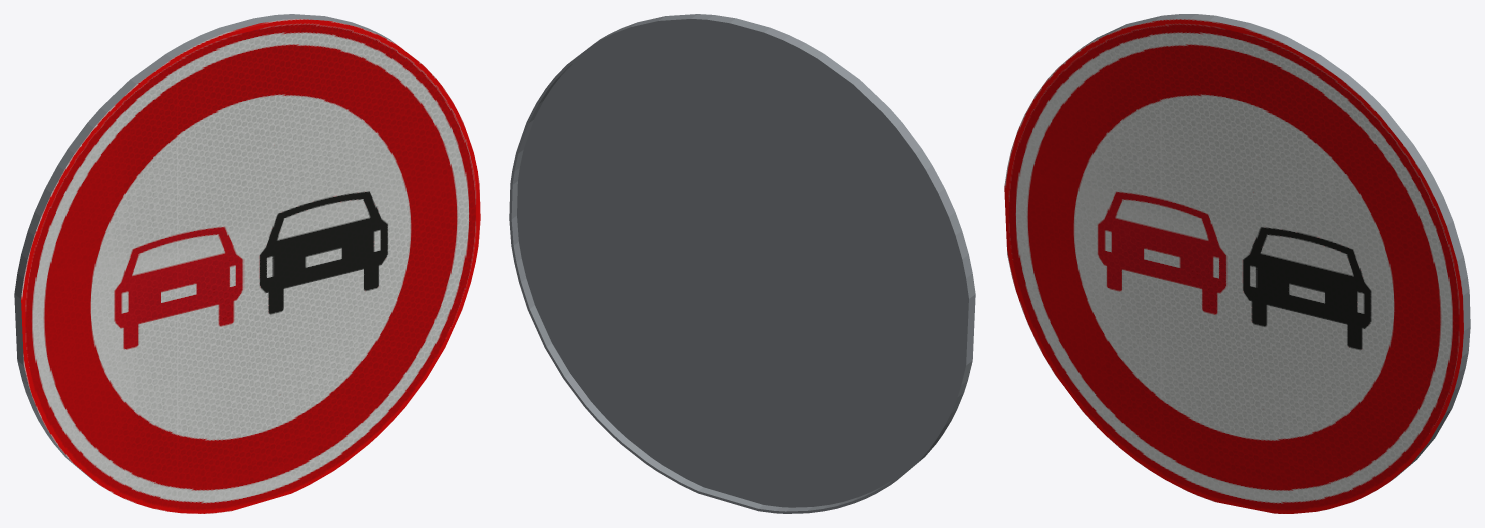
3 renders of one model, left to right at view 1: azimuth 30°, elevation 25°; view 2: azimuth 150°, elevation 25°; view 3: azimuth 330°, elevation 25°, orthographic.
Visible parts, largest first — view 1: cat_47b7b870c26c6aea; view 2: cat_47b7b870c26c6aea; view 3: cat_47b7b870c26c6aea.
Part boxes in pixels (<box>): cat_47b7b870c26c6aea: <box>14,14,480,513</box>; cat_47b7b870c26c6aea: <box>509,14,975,513</box>; cat_47b7b870c26c6aea: <box>1004,14,1470,513</box>.
Size of the model in its own units: 0.6 by 0.015 by 0.6.
2 materials, 1 textured.
